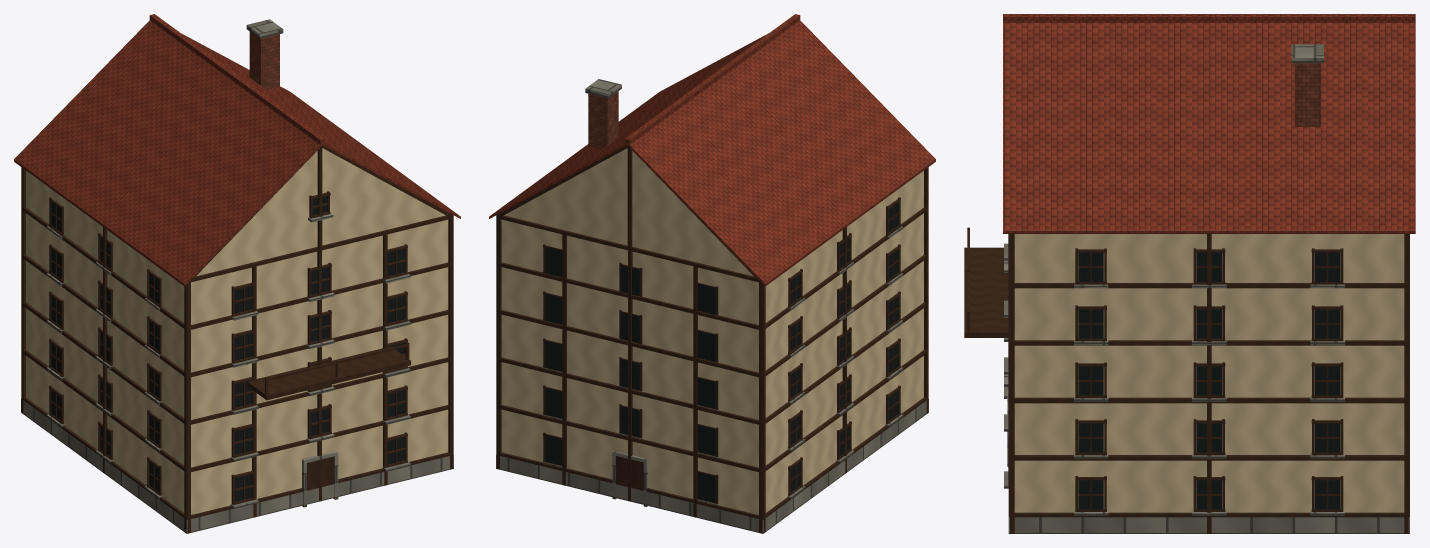
The model's file is SG_House_F_Guild_LOD1.fbx.
The picture shows the model from 3 angles, left to right: view 1: azimuth 30°, elevation 25°; view 2: azimuth 150°, elevation 25°; view 3: azimuth 270°, elevation 25°; orthographic projection. The views are drawn at different scales.
Visible parts, largest first — view 1: SG_House_F_Guild_Detail1; view 2: SG_House_F_Guild_Detail1; view 3: SG_House_F_Guild_Detail1.
Boxes of the visible parts, bbox=[...] form: SG_House_F_Guild_Detail1: bbox=[14, 14, 460, 533]; SG_House_F_Guild_Detail1: bbox=[489, 14, 935, 533]; SG_House_F_Guild_Detail1: bbox=[964, 14, 1415, 533].
Bounding box in the file's own units: 27.4 × 34.95 × 32.05.
